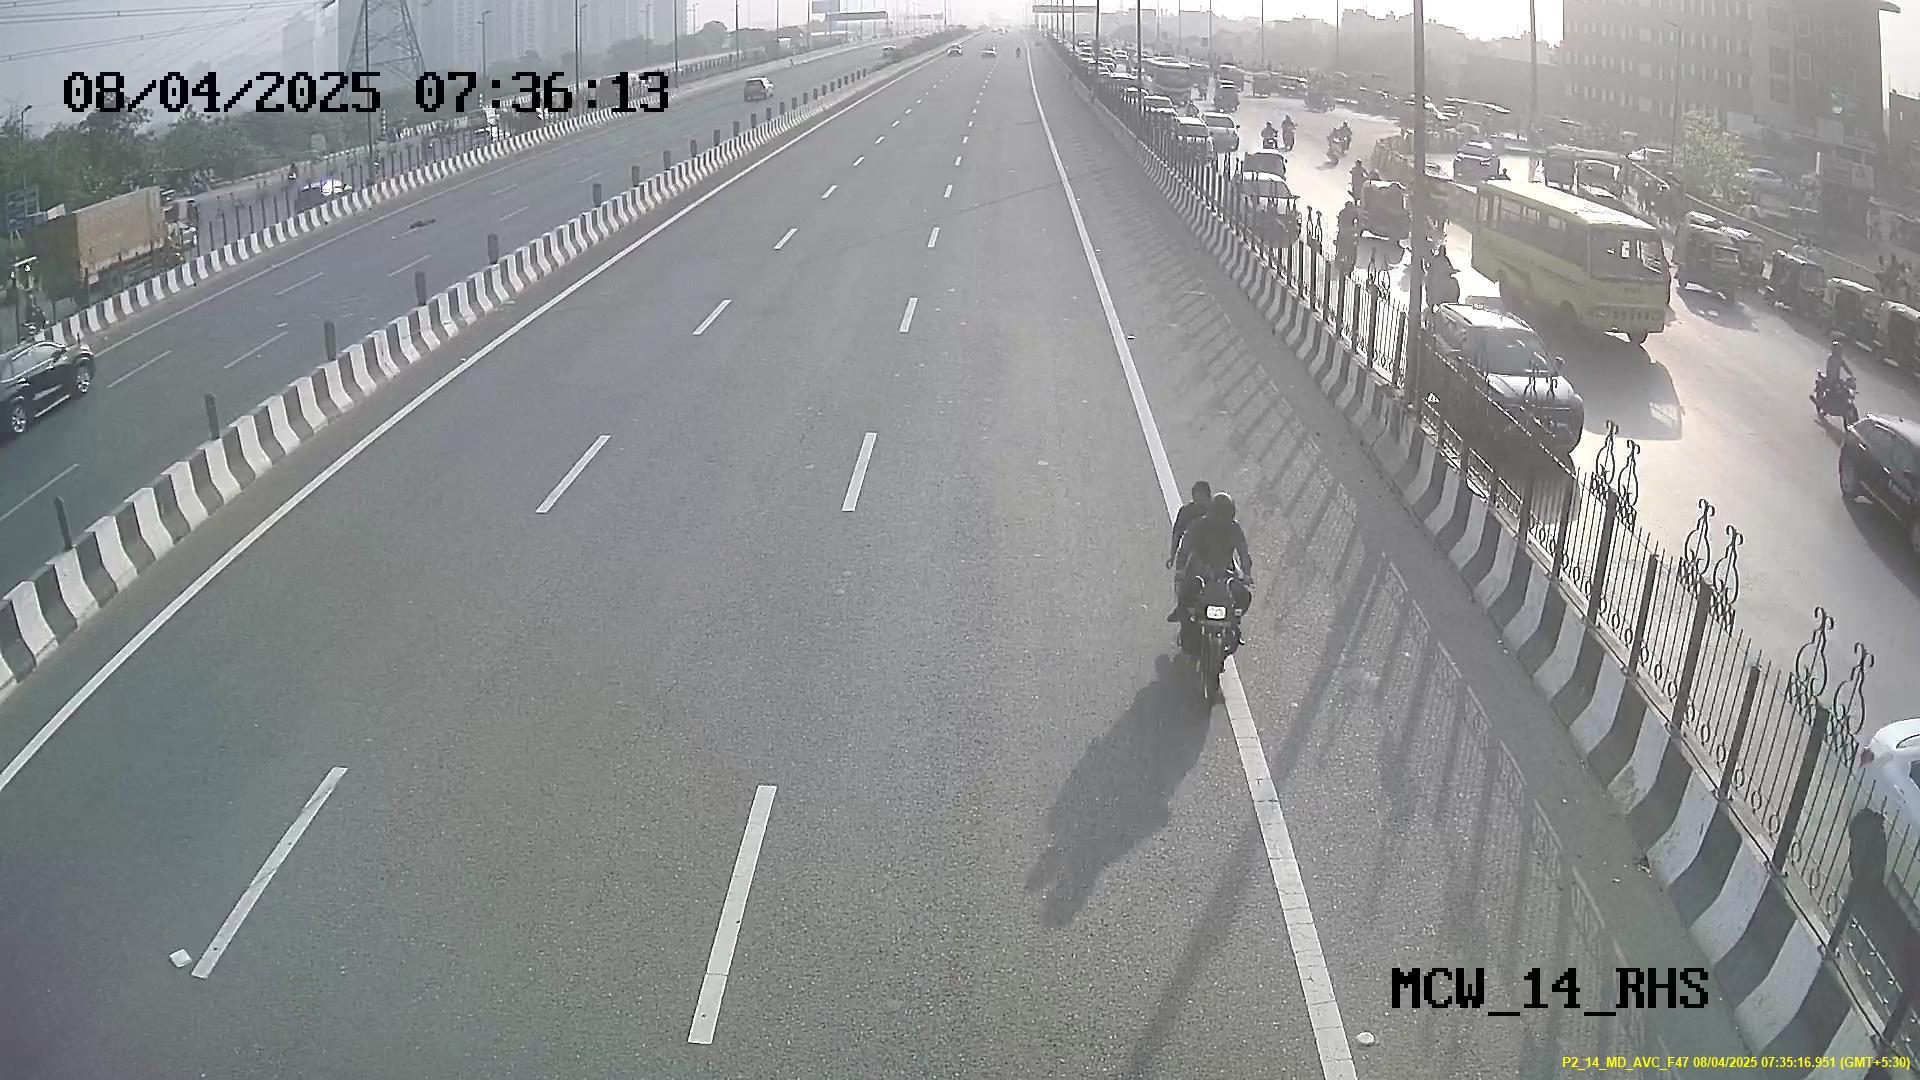bike: (1163, 483, 1265, 699)
